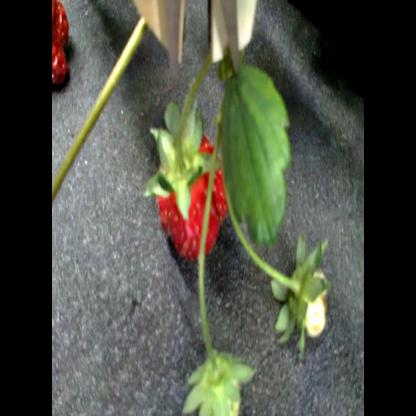ripe: (152, 143, 236, 269), (51, 50, 73, 96), (51, 0, 71, 43)
